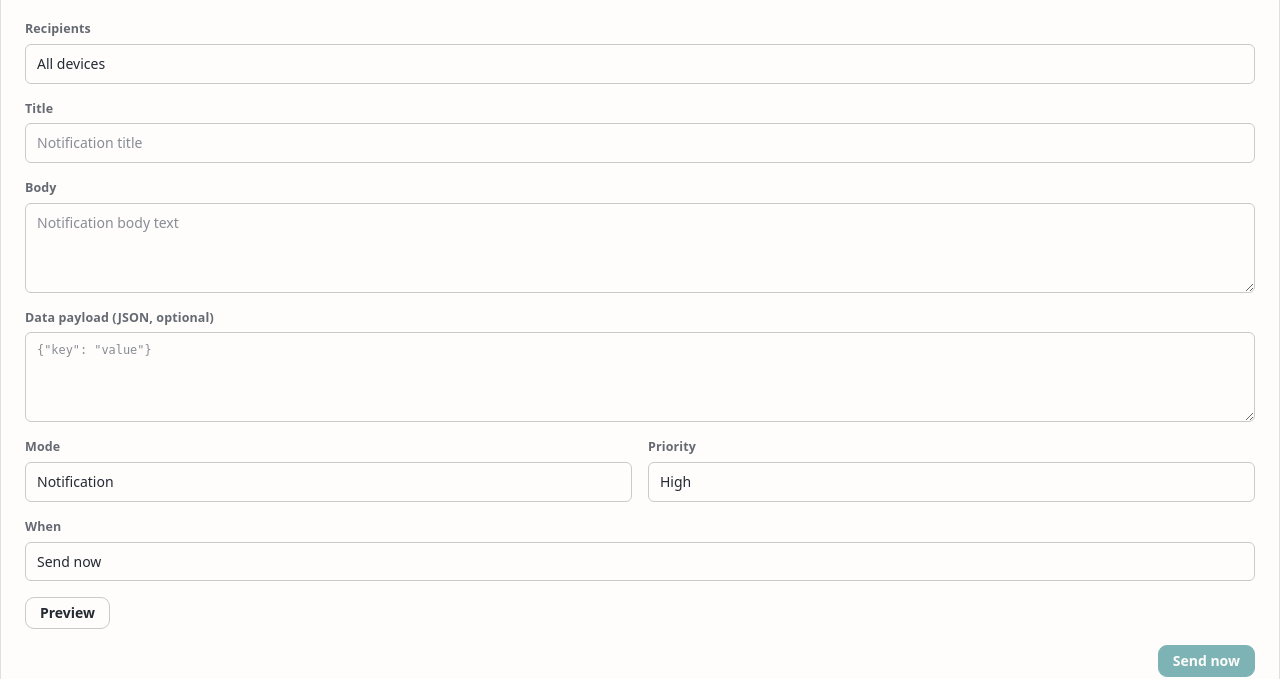
it: send page › reveals schedule-at datetime input when "schedule" timing is selected
The width and height of the screenshot is (1280, 679).
(page scrolled)
Select "Schedule for later" in the dropdown with test id "when-mode" at (640, 561), box [25,542,1255,581]
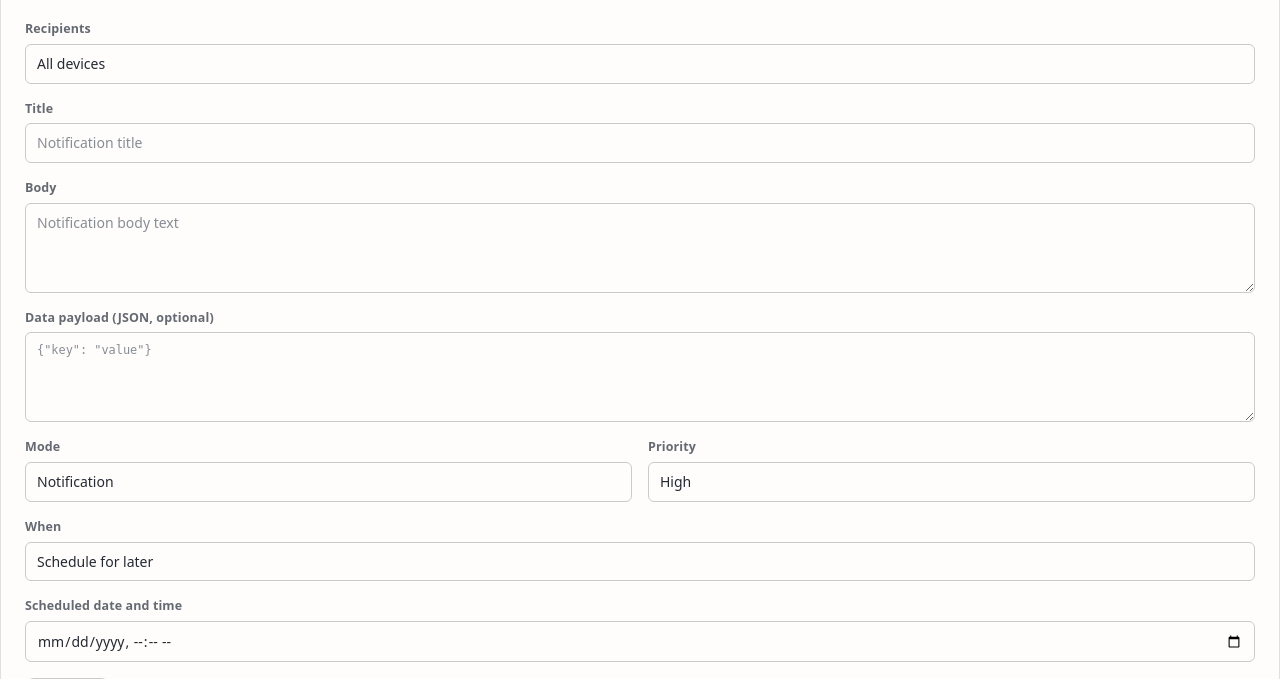
Expected: the field with test id "schedule-at" is shown, [25,621,1255,662]
